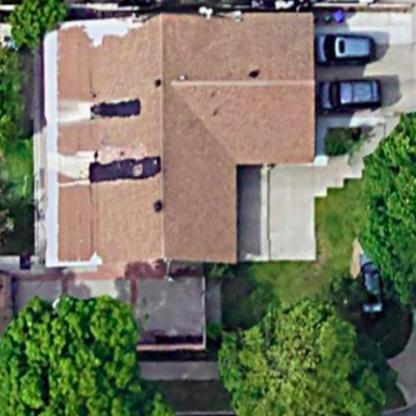car: (308, 77, 383, 116), (356, 240, 392, 319), (314, 30, 379, 67)
